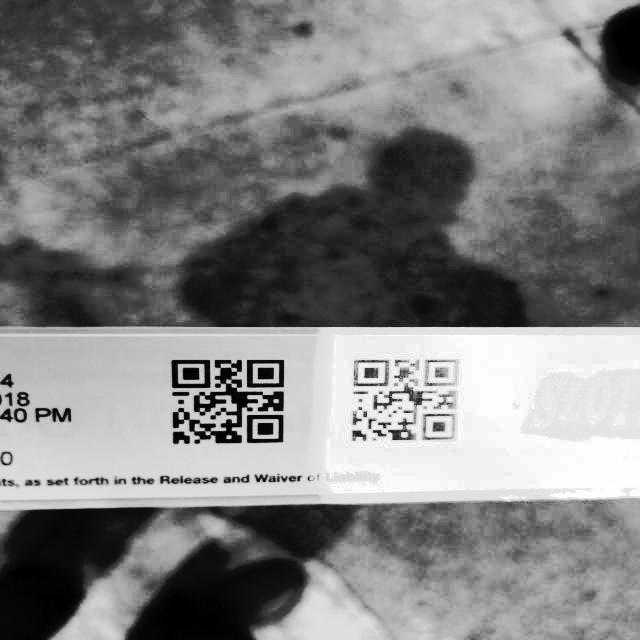qr_code: (153, 347, 298, 457), (332, 347, 468, 454)
